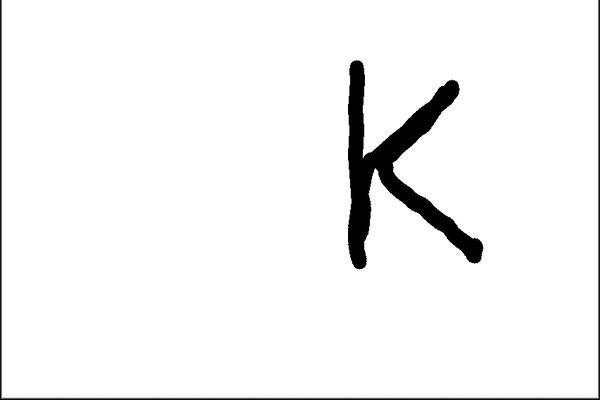K: (336, 52, 491, 278)
